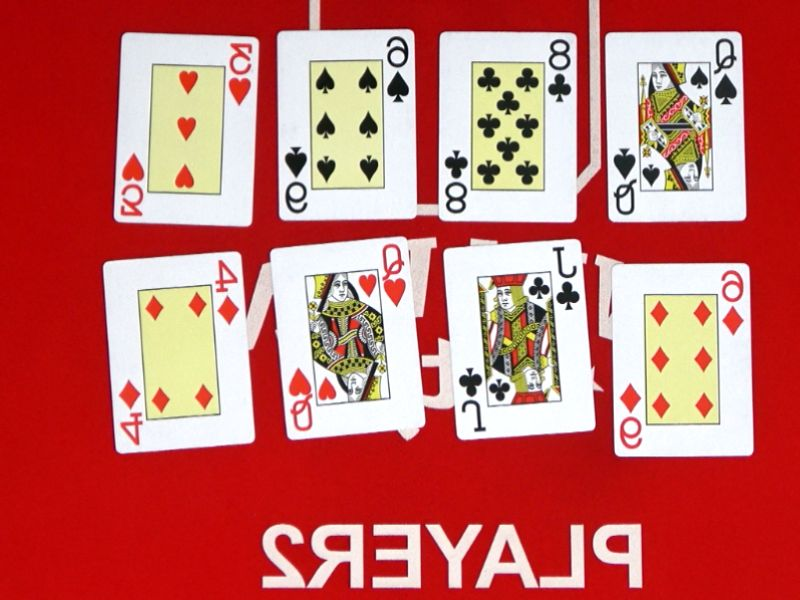3H: (91, 153, 168, 222), (204, 39, 280, 108)
4D: (186, 253, 266, 327), (88, 376, 166, 447)
6D: (589, 380, 670, 453), (695, 266, 774, 338)
6S: (358, 32, 439, 107), (255, 146, 334, 217)
8C: (520, 37, 601, 110), (417, 149, 493, 219)
JC: (429, 359, 510, 433), (527, 240, 606, 312)
QH: (355, 238, 432, 308), (259, 363, 335, 431)
QS: (686, 36, 768, 111), (586, 146, 664, 218)
